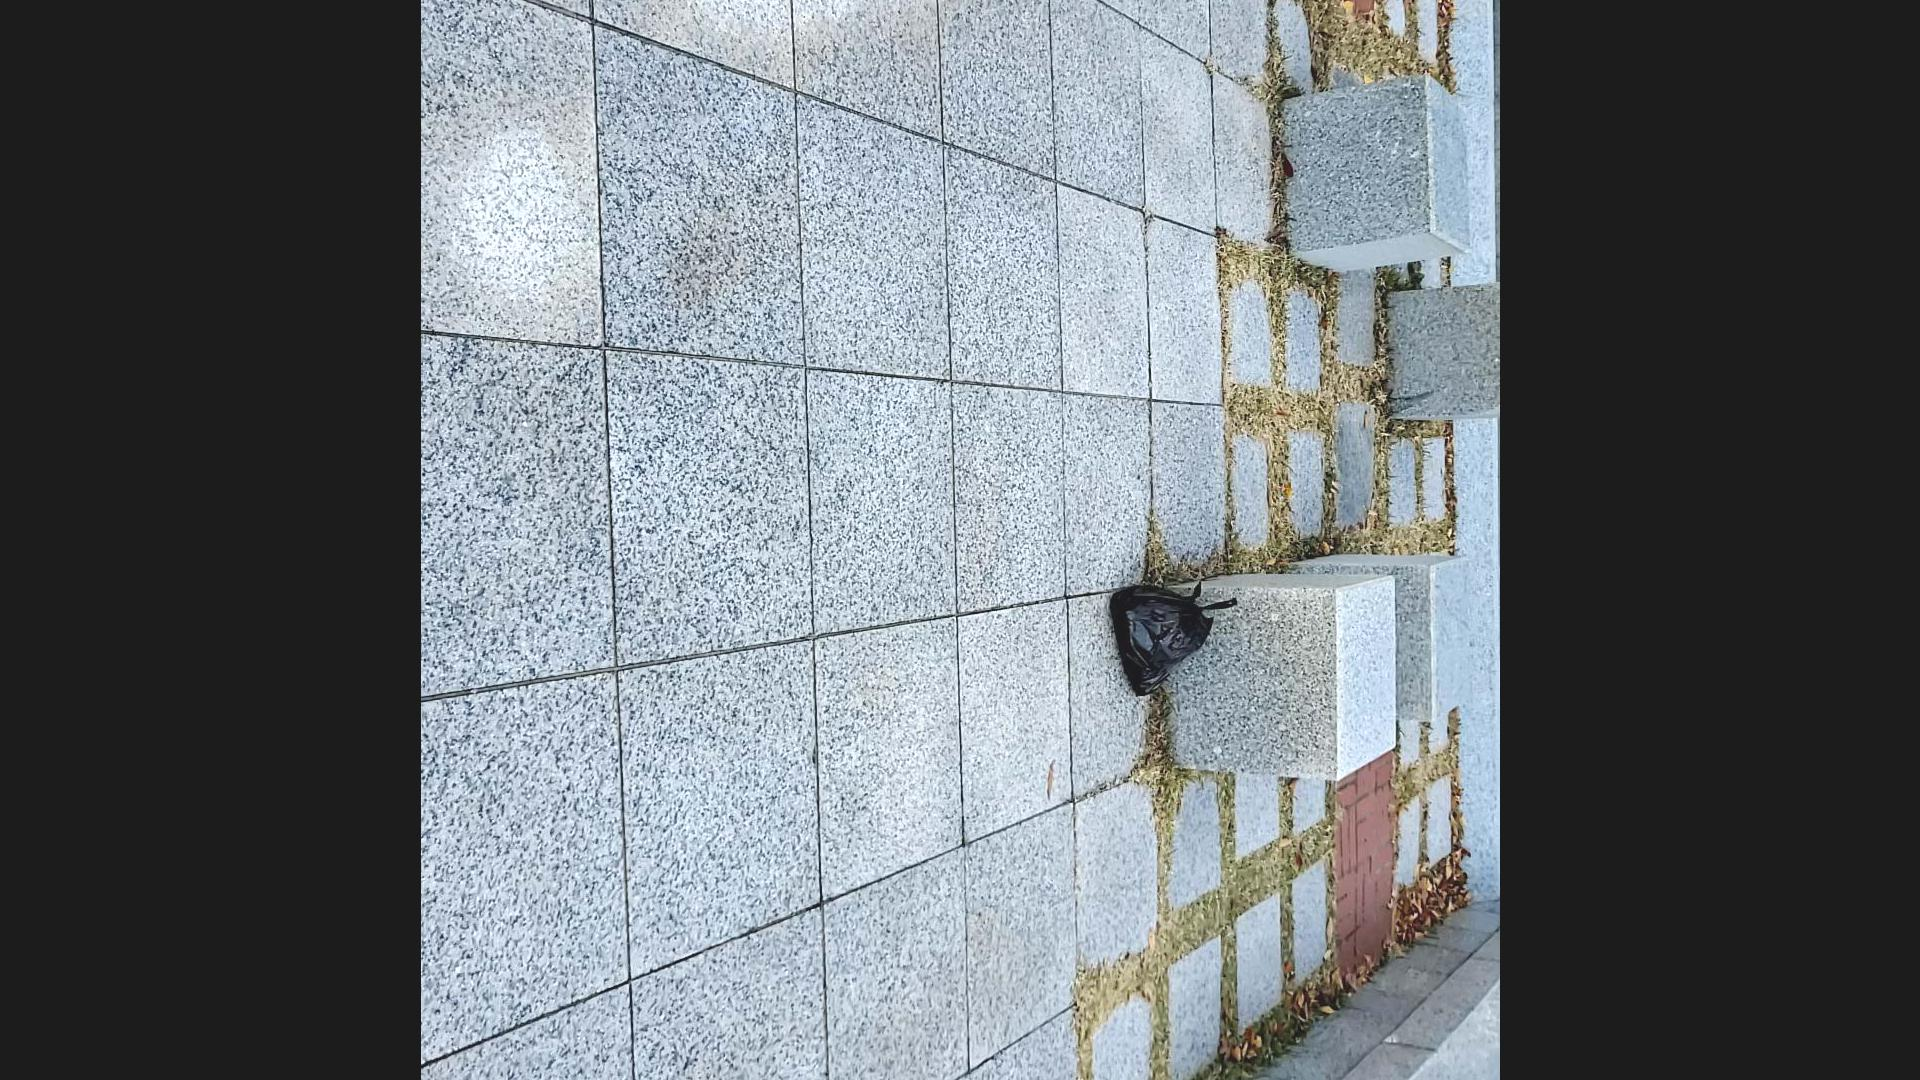black_bag: (1106, 568, 1244, 699)
